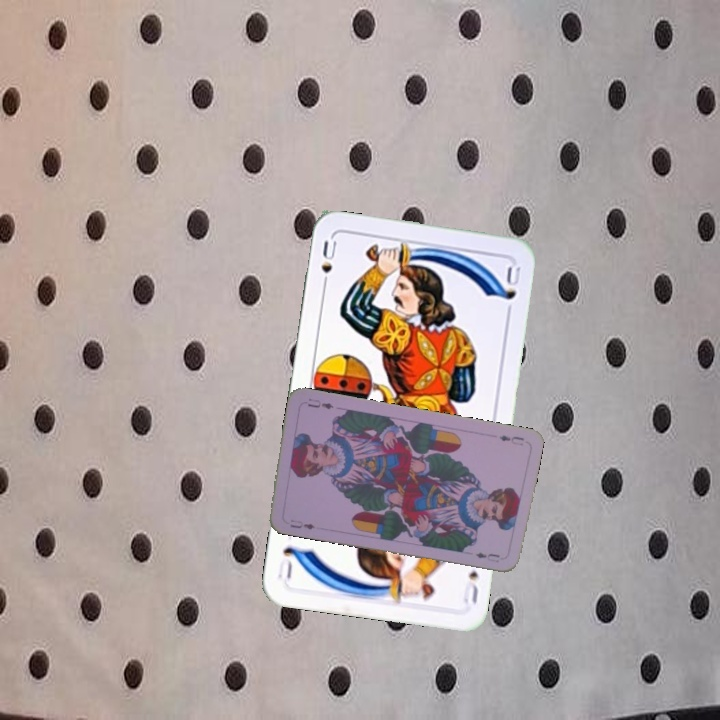EU: (495, 431, 527, 448), (286, 516, 317, 532)
SU: (317, 235, 339, 293), (459, 566, 481, 607)
